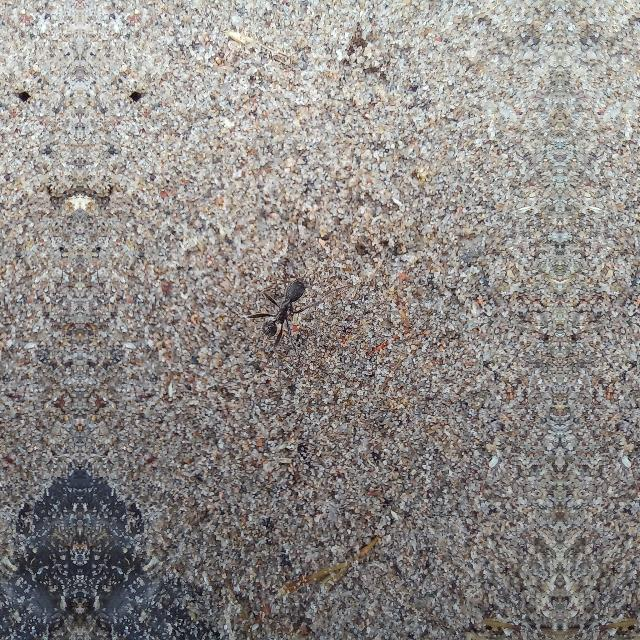Apheanogaster: (250, 265, 316, 355)
